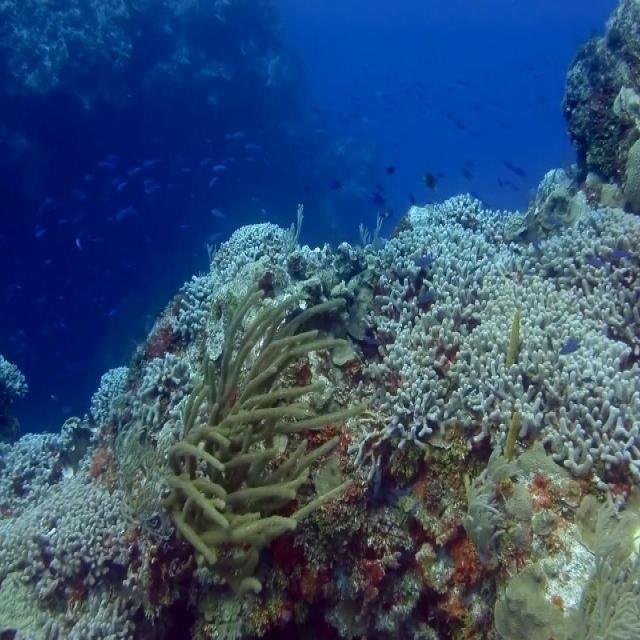aquatic plants: (154, 291, 366, 596), (494, 504, 639, 639), (116, 424, 171, 516)
reefs: (353, 194, 639, 477), (0, 422, 124, 597)
